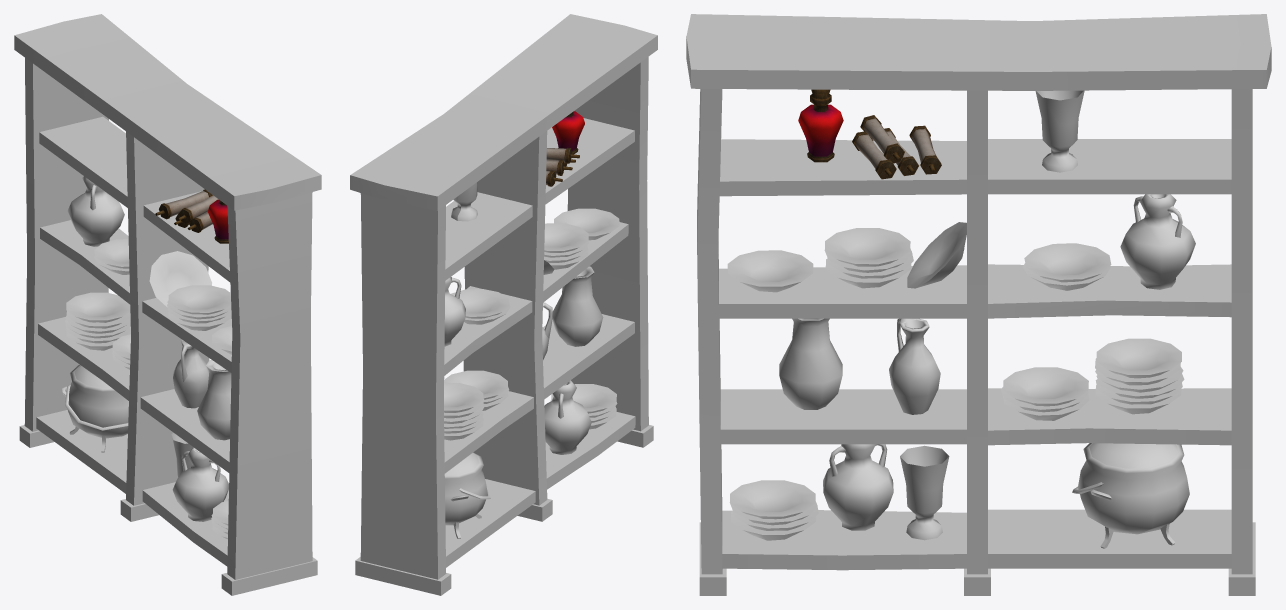
Rendered from Cupboard_11.fbx.
The picture shows the model from 3 angles, left to right: view 1: azimuth 30°, elevation 25°; view 2: azimuth 150°, elevation 25°; view 3: azimuth 270°, elevation 25°; orthographic projection. The views are drawn at different scales.
Visible parts, largest first — view 1: Cupboard_11; view 2: Cupboard_11; view 3: Cupboard_11.
Part boxes in pixels (<box>): Cupboard_11: <box>14,14,321,595</box>; Cupboard_11: <box>350,14,657,595</box>; Cupboard_11: <box>686,14,1271,595</box>.
Size of the model in its own units: 0.5937 by 2.61 by 2.63.
